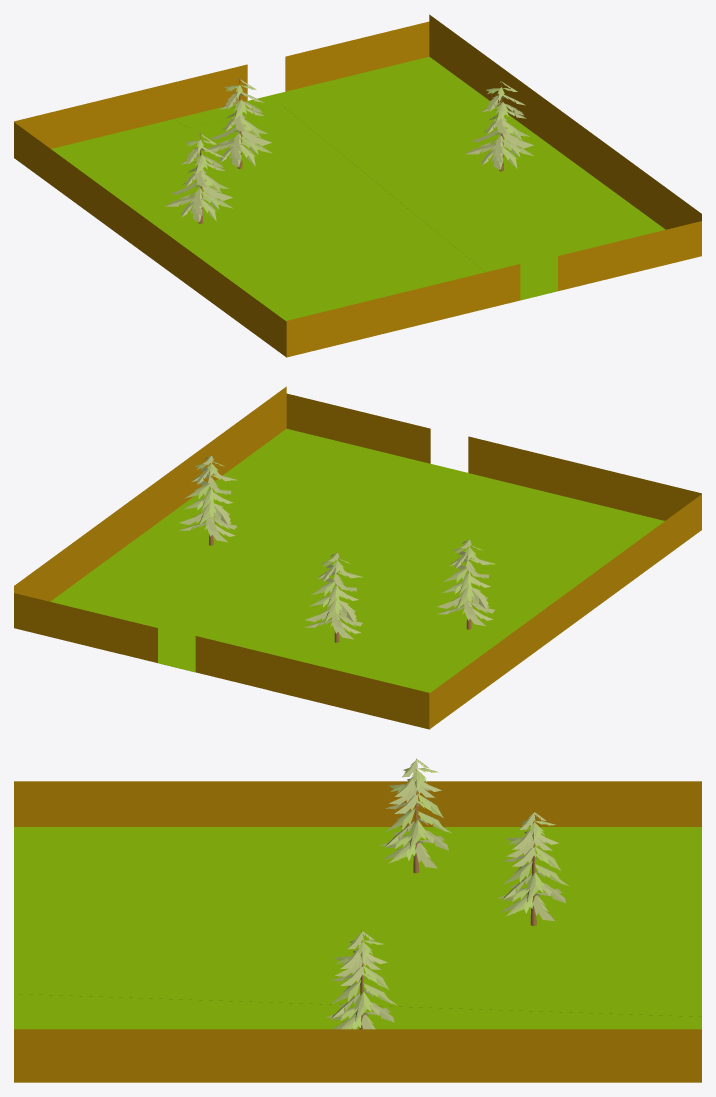
3 renders of one model, top to bottom at view 1: azimuth 30°, elevation 25°; view 2: azimuth 150°, elevation 25°; view 3: azimuth 270°, elevation 25°, orthographic. The views are drawn at different scales.
Visible parts, largest first — view 1: Mesh226_Component1_Model_003; view 2: Mesh226_Component1_Model_003; view 3: Mesh226_Component1_Model_003.
Part boxes in pixels (x1=…): Mesh226_Component1_Model_003: x1=14, y1=14, x2=701, y2=357; Mesh226_Component1_Model_003: x1=14, y1=386, x2=701, y2=729; Mesh226_Component1_Model_003: x1=14, y1=758, x2=701, y2=1082.
Bounding box in the file's own units: 44.18 × 50.21 × 9.17.
